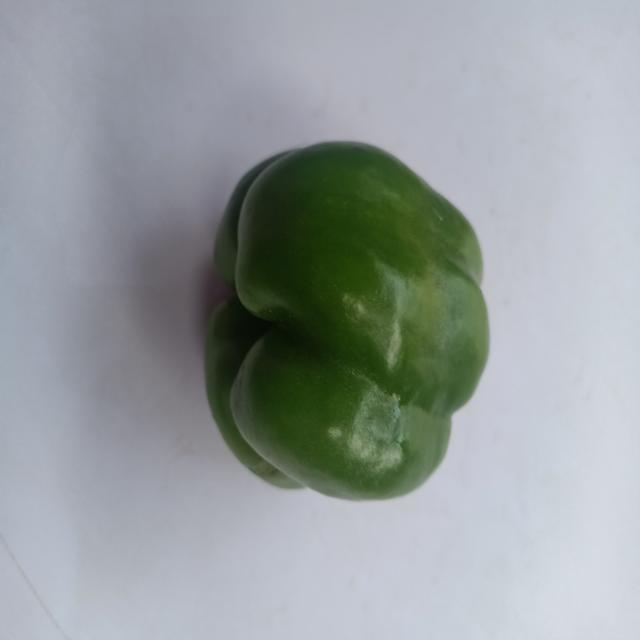Capsicum: (202, 114, 500, 538)
